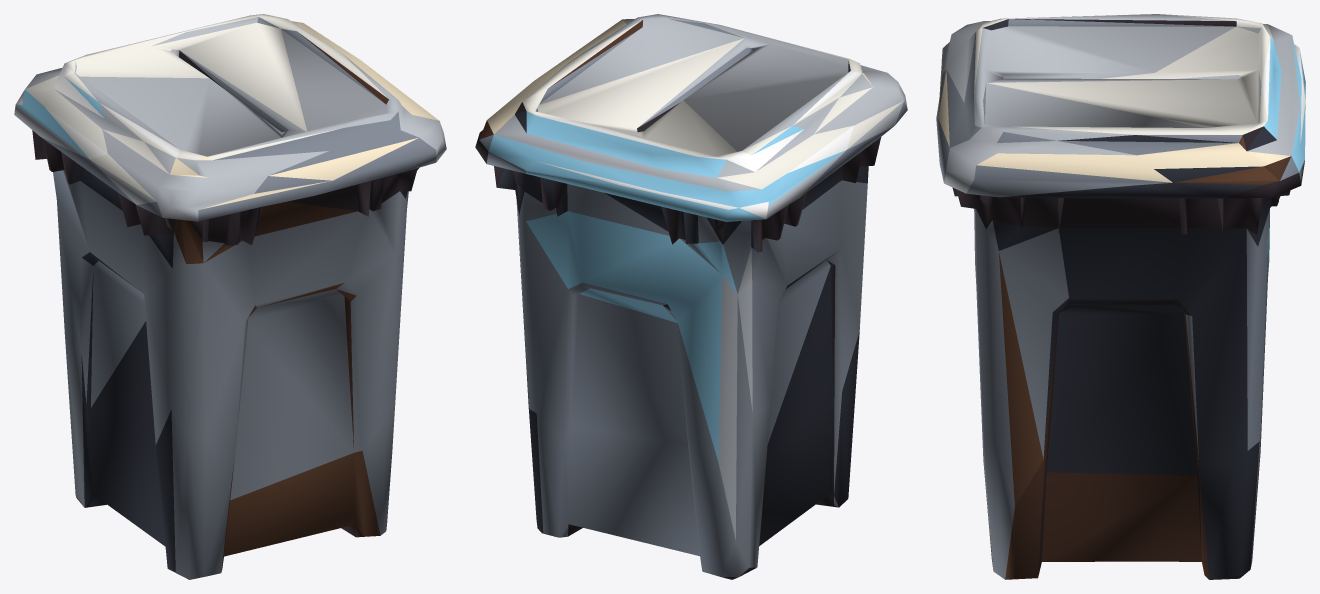
File: SM_bin_trash_grey.fbx
The picture shows the model from 3 angles, left to right: view 1: azimuth 30°, elevation 25°; view 2: azimuth 150°, elevation 25°; view 3: azimuth 270°, elevation 25°; orthographic projection. The views are drawn at different scales.
Visible parts, largest first — view 1: SM_bin_trash_grey; view 2: SM_bin_trash_grey; view 3: SM_bin_trash_grey.
Boxes of the visible parts, x1,y1,x2,y2 form: SM_bin_trash_grey: (14, 14, 446, 579); SM_bin_trash_grey: (475, 14, 907, 579); SM_bin_trash_grey: (936, 14, 1305, 579).
Bounding box in the file's own units: 72.43 × 100 × 73.32.
1 material, 1 textured.
